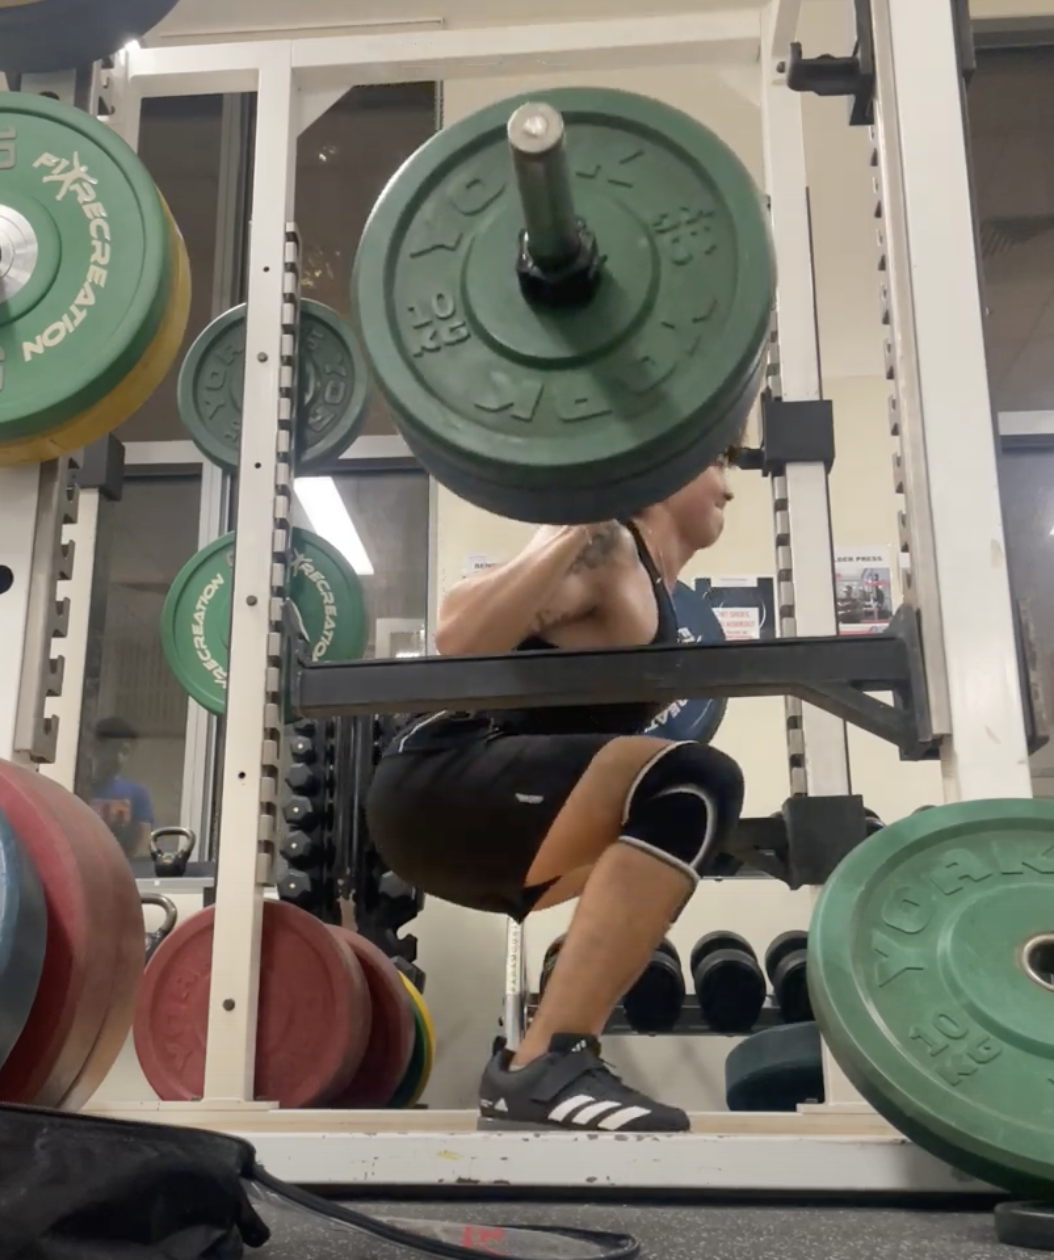barbell: (513, 100, 559, 137)
